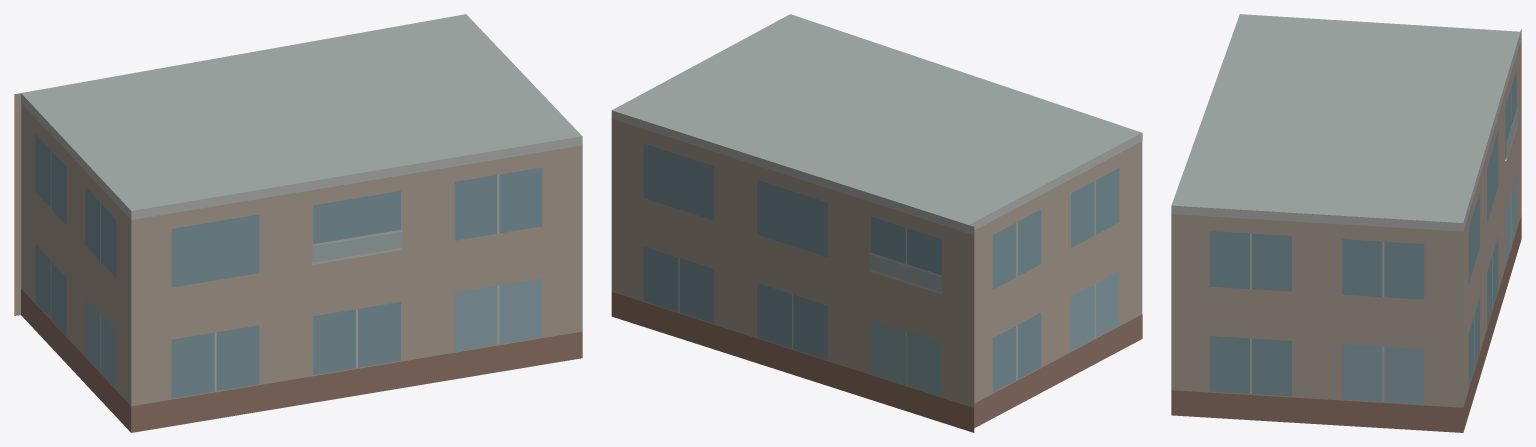
File: survey-upis-32681358.glb
3 views of the same model, side by side, from view 1: azimuth 30°, elevation 25°; view 2: azimuth 150°, elevation 25°; view 3: azimuth 270°, elevation 25° (orthographic). The views are drawn at different scales.
Visible parts, largest first — view 1: survey-upis-32681358.tmp; view 2: survey-upis-32681358.tmp; view 3: survey-upis-32681358.tmp.
Part boxes in pixels (box(x1,y1,x2,y2)): survey-upis-32681358.tmp: box(14, 14, 582, 432); survey-upis-32681358.tmp: box(611, 14, 1142, 432); survey-upis-32681358.tmp: box(1171, 14, 1521, 432).
Size of the model in its own units: 12.62 by 5.9 by 8.94.
